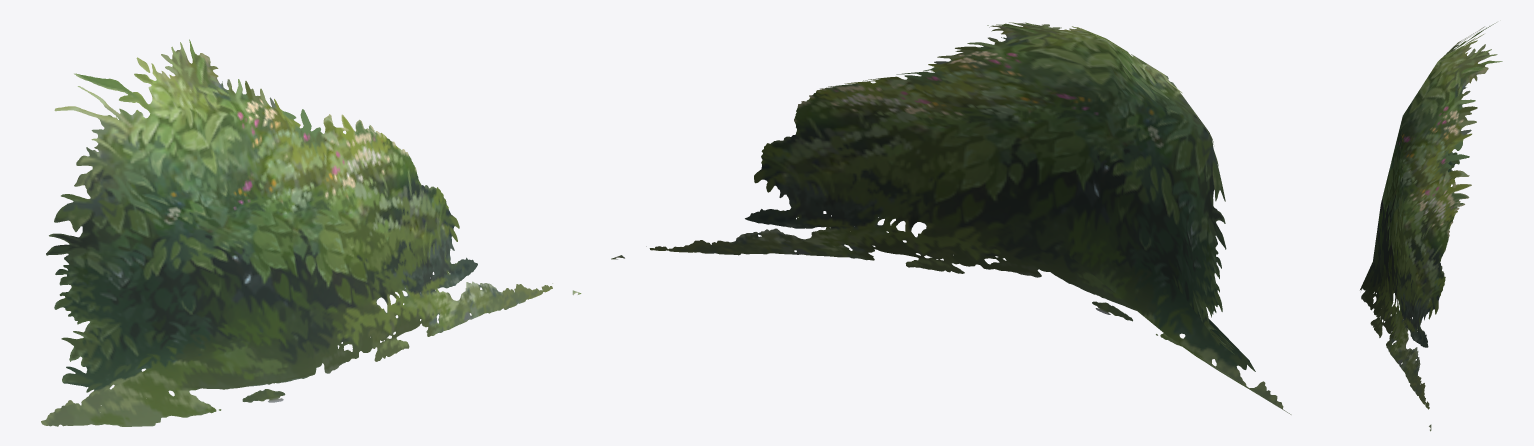
File: Jiubajie_Grass06_fbx.FBX
3 views of the same model, side by side, from view 1: azimuth 30°, elevation 25°; view 2: azimuth 150°, elevation 25°; view 3: azimuth 270°, elevation 25° (orthographic). The views are drawn at different scales.
Parts seen in each view (by area): view 1: Jiubajie_Grass06_fbx; view 2: Jiubajie_Grass06_fbx; view 3: Jiubajie_Grass06_fbx.
Boxes of the visible parts, x1,y1,x2,y2 form: Jiubajie_Grass06_fbx: (41, 39, 581, 426); Jiubajie_Grass06_fbx: (611, 22, 1291, 414); Jiubajie_Grass06_fbx: (1360, 22, 1502, 431).
Bounding box in the file's own units: 2.29 × 1.3 × 0.7725.
